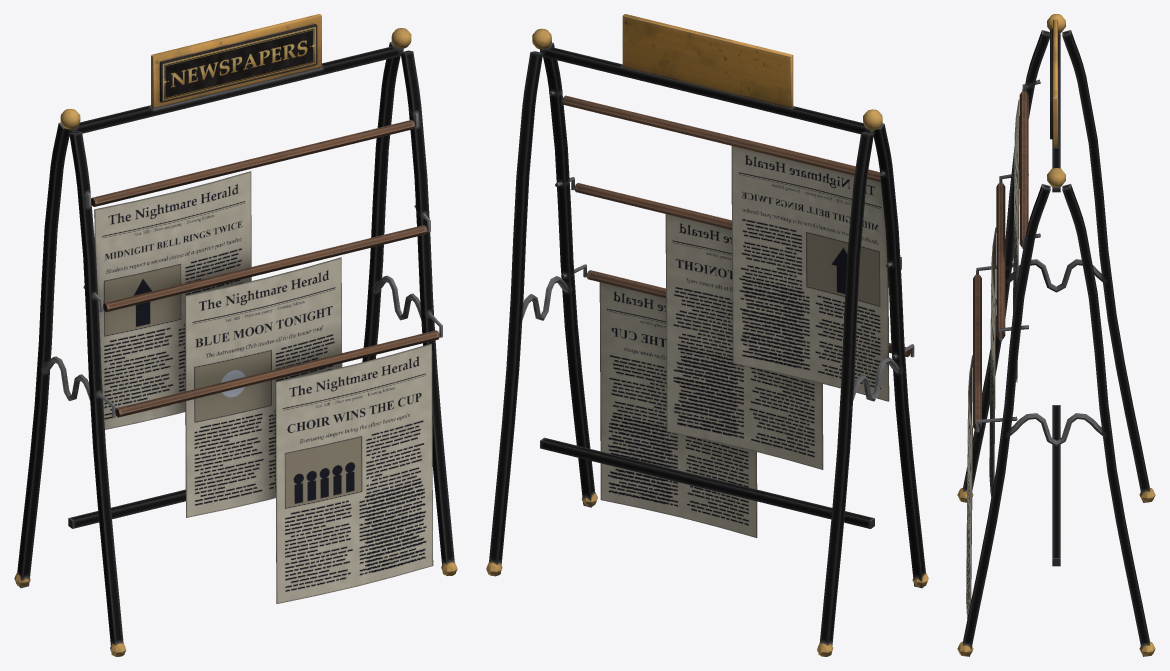
The model's file is NewspaperRack.fbx.
The picture shows the model from 3 angles, left to right: view 1: azimuth 30°, elevation 25°; view 2: azimuth 150°, elevation 25°; view 3: azimuth 270°, elevation 25°; orthographic projection. The views are drawn at different scales.
Parts seen in each view (by area): view 1: NewspaperRack; view 2: NewspaperRack; view 3: NewspaperRack.
Part boxes in pixels (x1=…): NewspaperRack: x1=14, y1=14, x2=457, y2=656; NewspaperRack: x1=486, y1=14, x2=928, y2=656; NewspaperRack: x1=957, y1=14, x2=1155, y2=656.
Size of the model in its own units: 378 by 568 by 196.
